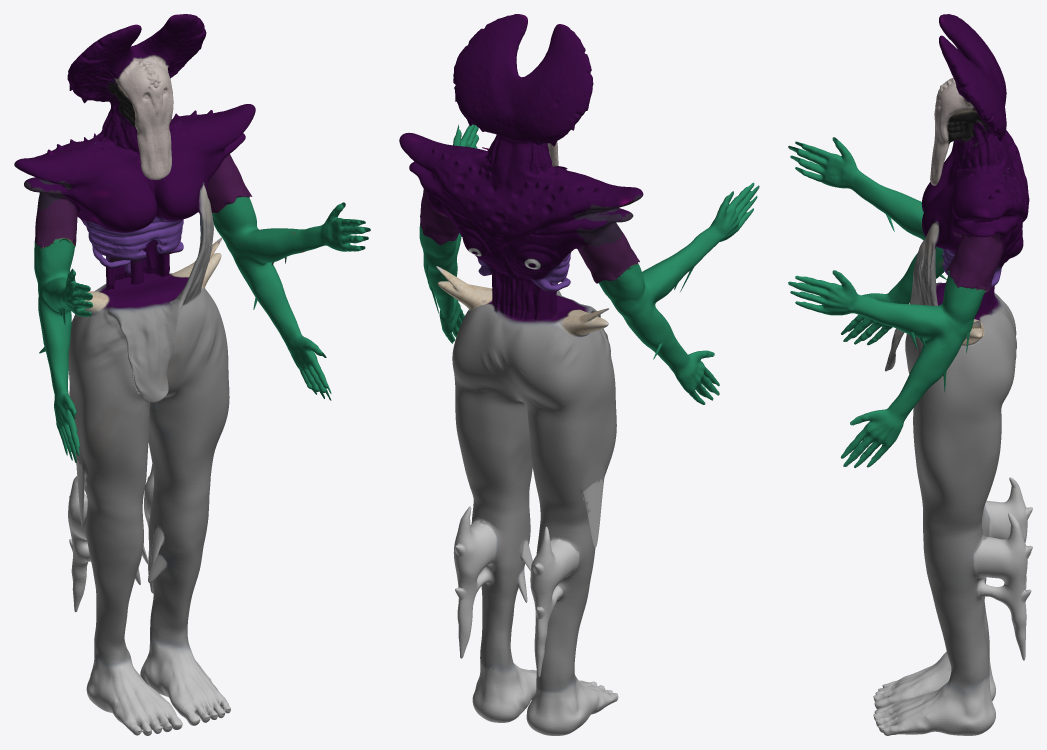
Rendered from tilinasglb.glb.
3 renders of one model, left to right at view 1: azimuth 30°, elevation 25°; view 2: azimuth 150°, elevation 25°; view 3: azimuth 270°, elevation 25°, orthographic.
Parts seen in each view (by area): view 1: tilinas3; view 2: tilinas3; view 3: tilinas3.
Part boxes in pixels (<box>): tilinas3: <box>14,14,370,735</box>; tilinas3: <box>399,14,759,735</box>; tilinas3: <box>788,14,1032,735</box>.
Size of the model in its own units: 5.78 by 13.65 by 4.39.
Materials: 1 (1 with a texture image).
